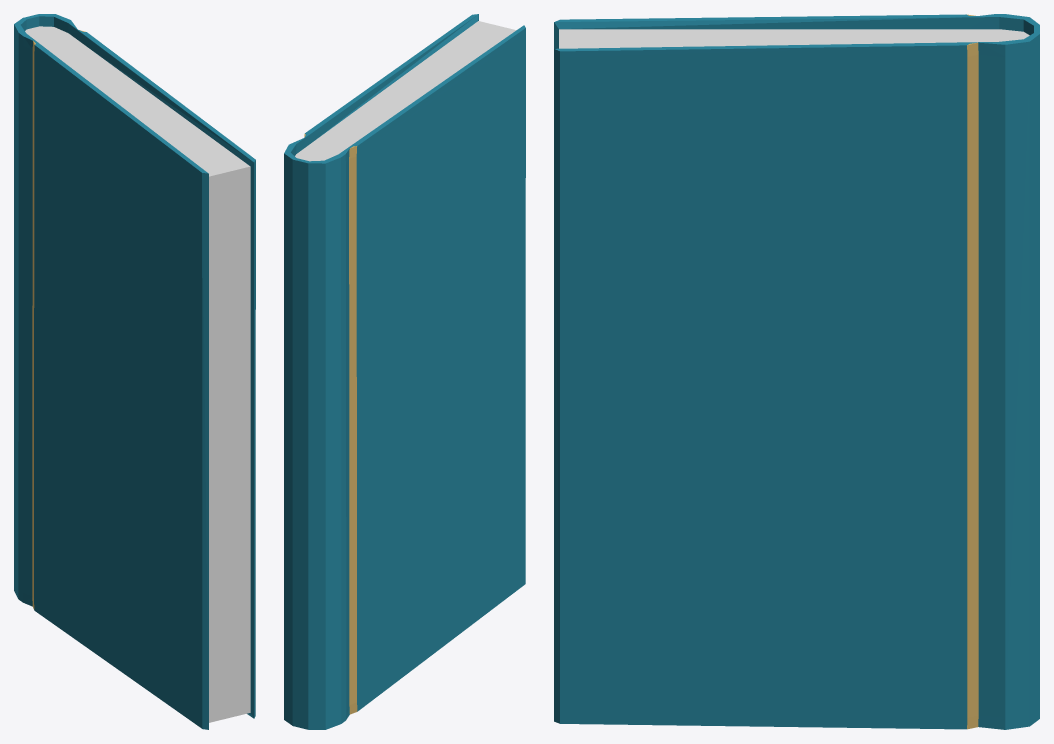
The model's file is Book3.fbx.
3 views of the same model, side by side, from view 1: azimuth 30°, elevation 25°; view 2: azimuth 150°, elevation 25°; view 3: azimuth 270°, elevation 25° (orthographic). The views are drawn at different scales.
Parts seen in each view (by area): view 1: pCube8; view 2: pCube8; view 3: pCube8.
Part boxes in pixels (left/top/right/bottom): pCube8: left=14, top=14, right=255, bottom=729; pCube8: left=284, top=14, right=525, bottom=729; pCube8: left=554, top=14, right=1039, bottom=729.
Size of the model in its own units: 0.826 by 8.3 by 5.34.
